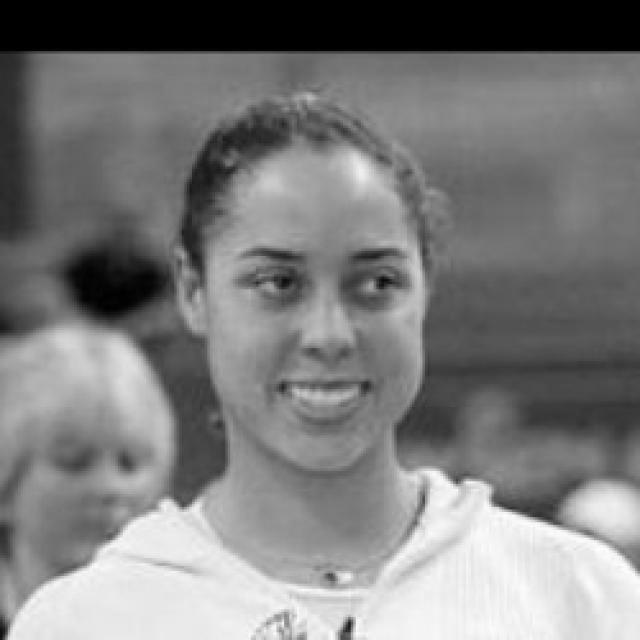real: (180, 106, 456, 476), (230, 242, 415, 314)
